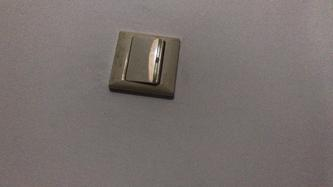switch: (135, 36, 161, 83)
